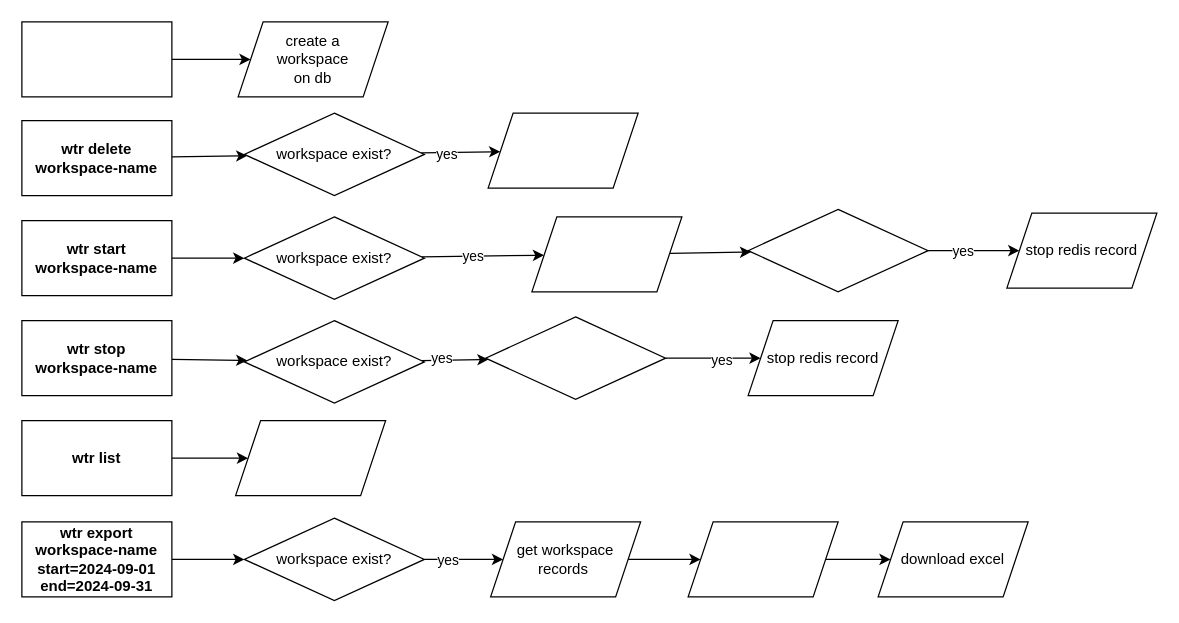
Image size: 1179x623. Some labels were removed from this diagram. The box of each missing label's shape, as (x1, y1, x2, y2) in pixels:
delete a workspace on db: (487, 112, 638, 188)
expire after 4 hours: (747, 208, 928, 292)
gerate excel: (687, 521, 838, 597)
has redis record?: (484, 316, 666, 399)
list workspaces: (234, 419, 386, 496)
start redis record: (531, 216, 682, 292)
wtr create workspace-name: (21, 21, 172, 97)
